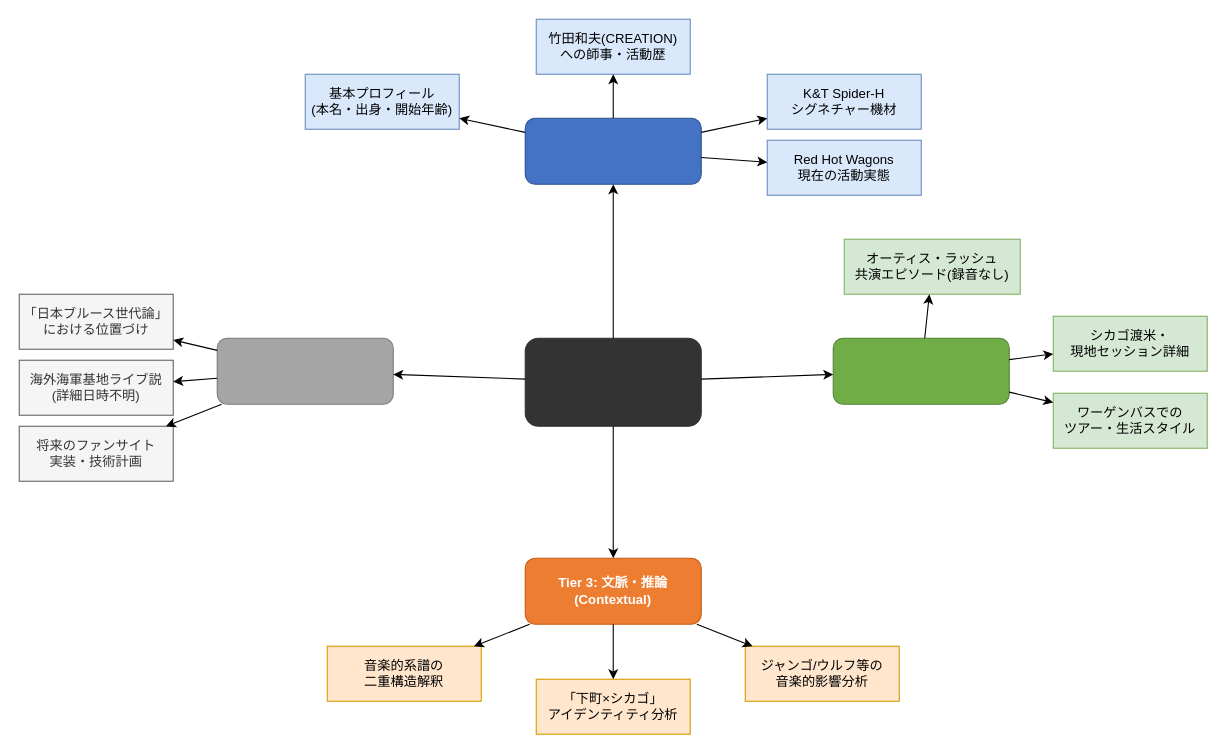
Some shapes in this 1227 by 754 pixel diagram are drawn without their labels. Each missing label, with the centre of its shape:
"Tier 1: 公式・確証済み (High Reliability)" goes at (x=612, y=150).
"Tier 2: 高蓋然性・証言 (Medium-High)" goes at (x=920, y=370).
"Tier 4: 未検証・計画 (Low/Future)" goes at (x=304, y=370).
"スパイダーテツ 情報ソース信頼性分布" goes at (x=612, y=381).
